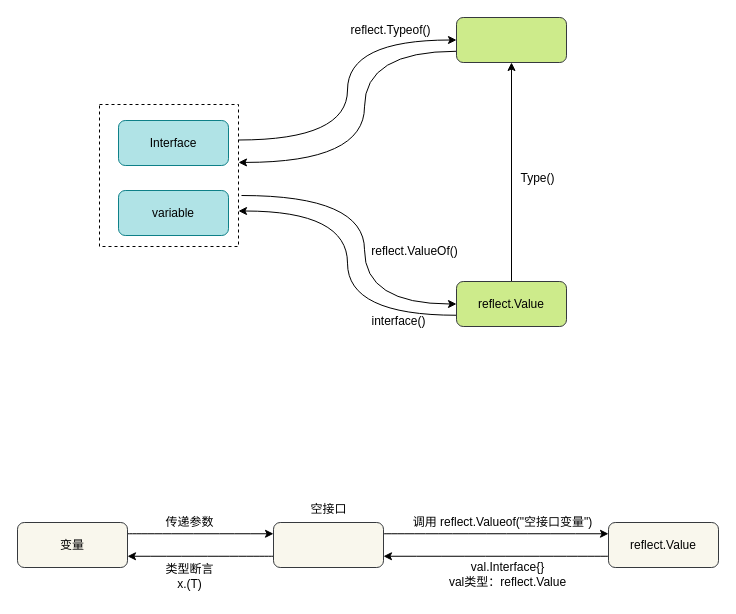
Image size: 736x614. Some labels were removed from this diagram. The box of each missing label's shape, as (x1, y1, x2, y2) in pixels:
interface{}: (272, 522, 384, 568)
reflect.Type: (456, 16, 566, 62)
